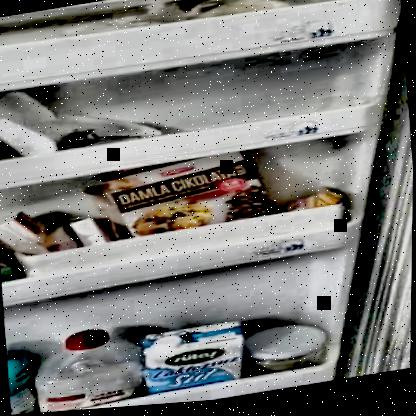milk: (144, 322, 249, 397)
